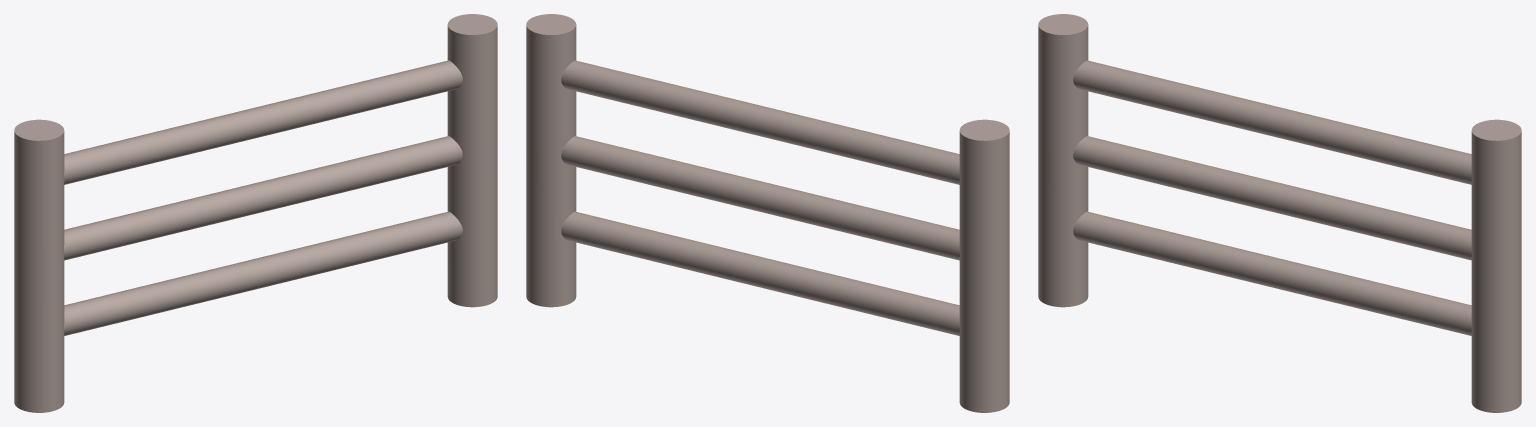
File: 1009_fence_1.glb
3 views of the same model, side by side, from view 1: azimuth 30°, elevation 25°; view 2: azimuth 150°, elevation 25°; view 3: azimuth 330°, elevation 25° (orthographic).
Parts seen in each view (by area): view 1: Body; view 2: Body; view 3: Body.
Part boxes in pixels (x1,y1,x2,y2): Body: (14, 14, 497, 412); Body: (526, 14, 1009, 412); Body: (1038, 14, 1521, 412).
Size of the model in its own units: 1.65 by 0.9 by 0.15.
